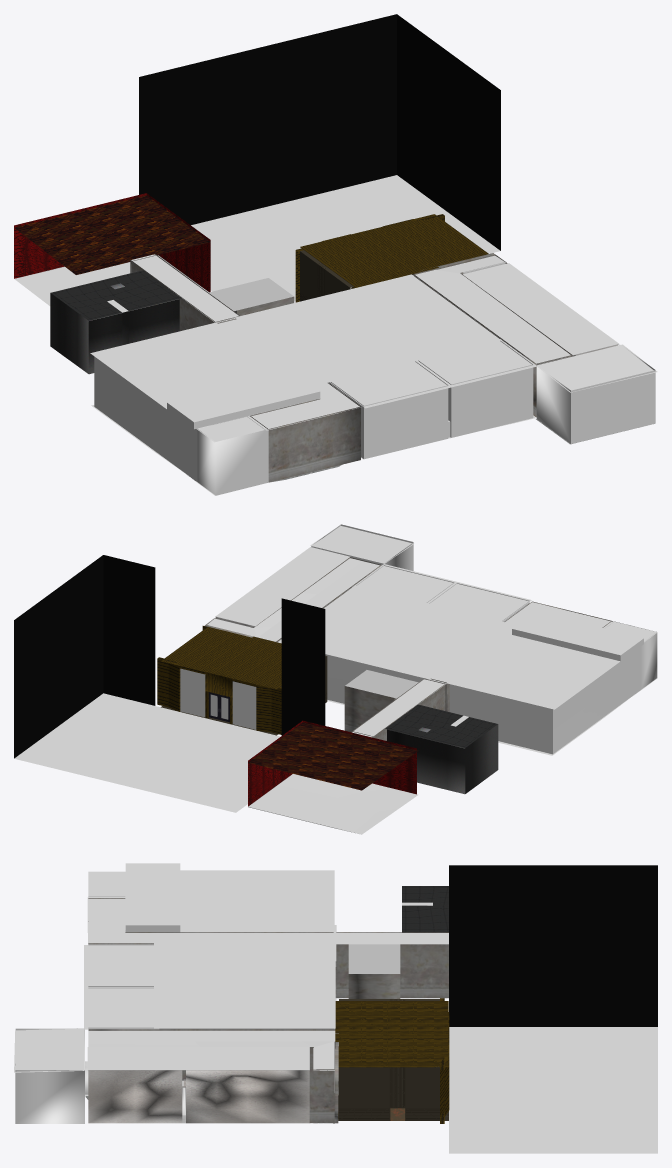
File: SpookyMapMedium.fbx
3 renders of one model, top to bottom at view 1: azimuth 30°, elevation 25°; view 2: azimuth 150°, elevation 25°; view 3: azimuth 270°, elevation 25°, orthographic. The views are drawn at different scales.
Parts seen in each view (by area): view 1: Plane.015, Plane.024, Plane.001, Plane.025, Plane.036, Plane.018, Plane.021, Plane.022, Plane.031, Plane.035, Plane.026, Plane.023 (+3 smaller); view 2: Plane.015, Plane.024, Plane.001, Plane.025, Plane.035, Plane.036, Plane.018, Plane.021, Plane.031, Plane.026, Plane.022, Plane.023 (+4 smaller); view 3: Plane.015, Plane.024, Plane.001, Plane.025, Plane.018, Plane.021, Plane.026, Plane.022, Plane.023, Plane.030, Plane.032, Plane.034 (+1 smaller).
Boxes of the visible parts, x1=… form: Plane.015: x1=139, y1=14, x2=500, y2=302; Plane.024: x1=91, y1=226, x2=655, y2=495; Plane.001: x1=235, y1=274, x2=501, y2=383; Plane.025: x1=90, y1=322, x2=320, y2=429; Plane.036: x1=14, y1=195, x2=210, y2=274; Plane.018: x1=300, y1=214, x2=488, y2=287; Plane.021: x1=330, y1=339, x2=536, y2=408; Plane.022: x1=131, y1=254, x2=360, y2=430; Plane.031: x1=50, y1=270, x2=179, y2=374; Plane.035: x1=14, y1=193, x2=210, y2=305; Plane.026: x1=463, y1=263, x2=619, y2=355; Plane.023: x1=415, y1=255, x2=570, y2=364; Plane.015: x1=14, y1=555, x2=327, y2=812; Plane.024: x1=204, y1=524, x2=657, y2=755; Plane.001: x1=277, y1=585, x2=506, y2=679; Plane.025: x1=446, y1=611, x2=643, y2=709; Plane.035: x1=248, y1=720, x2=418, y2=834; Plane.036: x1=248, y1=722, x2=418, y2=790; Plane.018: x1=161, y1=627, x2=281, y2=689; Plane.021: x1=352, y1=564, x2=531, y2=621; Plane.031: x1=387, y1=715, x2=498, y2=794; Plane.026: x1=215, y1=547, x2=350, y2=626; Plane.022: x1=352, y1=602, x2=611, y2=737; Plane.023: x1=206, y1=558, x2=379, y2=641; Plane.015: x1=338, y1=865, x2=657, y2=1153; Plane.024: x1=15, y1=871, x2=448, y2=1123; Plane.001: x1=154, y1=941, x2=335, y2=1028; Plane.025: x1=125, y1=863, x2=334, y2=932; Plane.018: x1=335, y1=1001, x2=448, y2=1067; Plane.021: x1=84, y1=945, x2=158, y2=1029; Plane.026: x1=87, y1=1047, x2=309, y2=1070; Plane.022: x1=87, y1=897, x2=448, y2=944; Plane.023: x1=88, y1=1030, x2=335, y2=1070; Plane.030: x1=14, y1=1028, x2=84, y2=1072; Plane.032: x1=402, y1=886, x2=448, y2=931; Plane.034: x1=348, y1=944, x2=400, y2=973.
Bounding box in the file's own units: 509 × 168 × 603.
